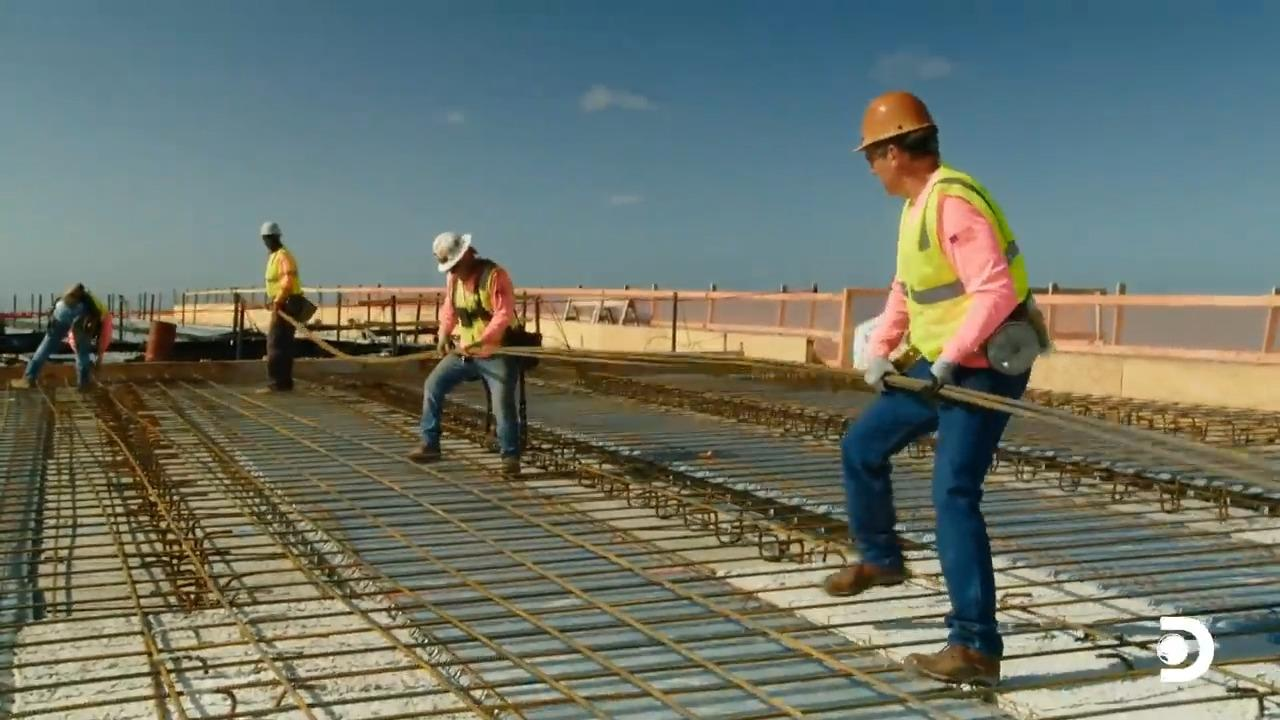Helmet: (852, 90, 935, 152), (432, 231, 471, 272), (260, 220, 282, 237)
Person: (823, 90, 1051, 687), (408, 231, 525, 474), (22, 282, 112, 391), (255, 220, 302, 394)
Safety Boot: (907, 633, 996, 684), (820, 562, 903, 602), (496, 454, 520, 481), (412, 443, 439, 465)
Safety Vest: (892, 205, 1012, 357), (455, 279, 508, 347), (270, 257, 296, 301)
